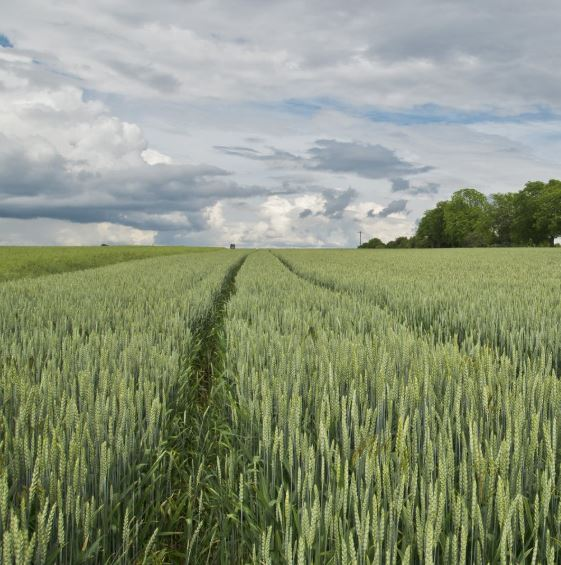Wheat: (245, 324, 541, 563)
